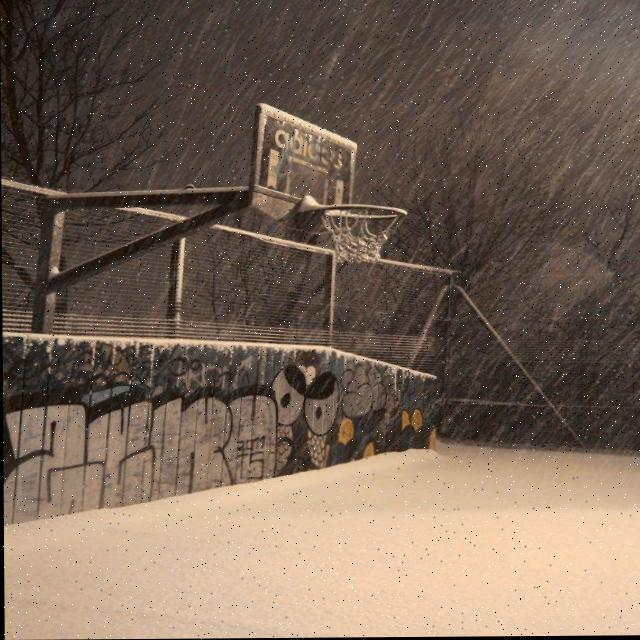hoop: (310, 182, 421, 267)
